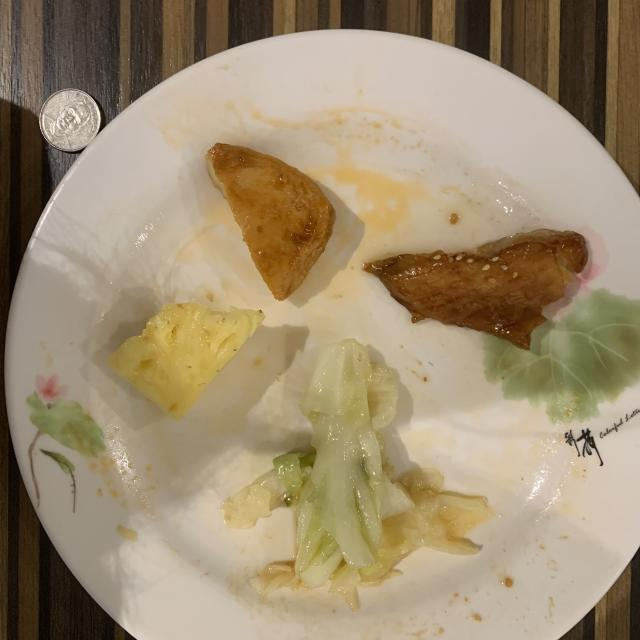Kabayaki sea bream fillet: (364, 230, 588, 350)
cabbage: (221, 339, 492, 610)
coin: (40, 89, 101, 151)
creamy tofu: (206, 142, 335, 301)
pineapple: (108, 302, 265, 420)
